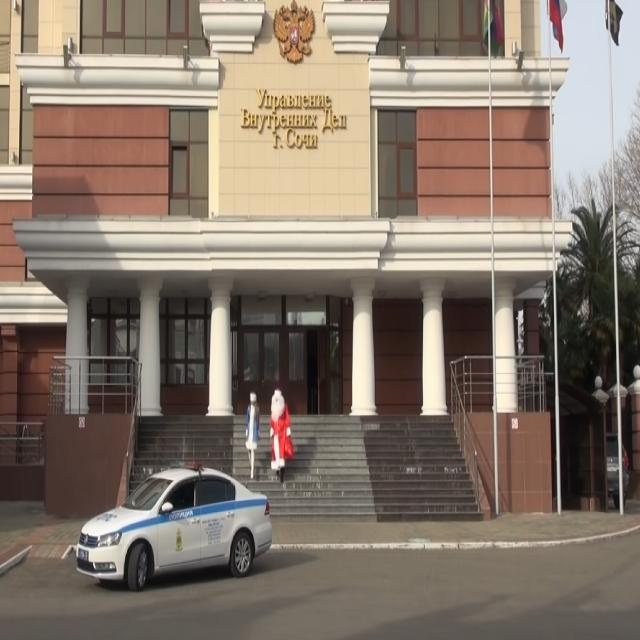police car: (72, 451, 274, 595)
